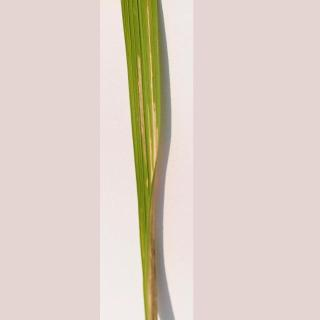Hawar-Daun: (126, 8, 188, 320)
